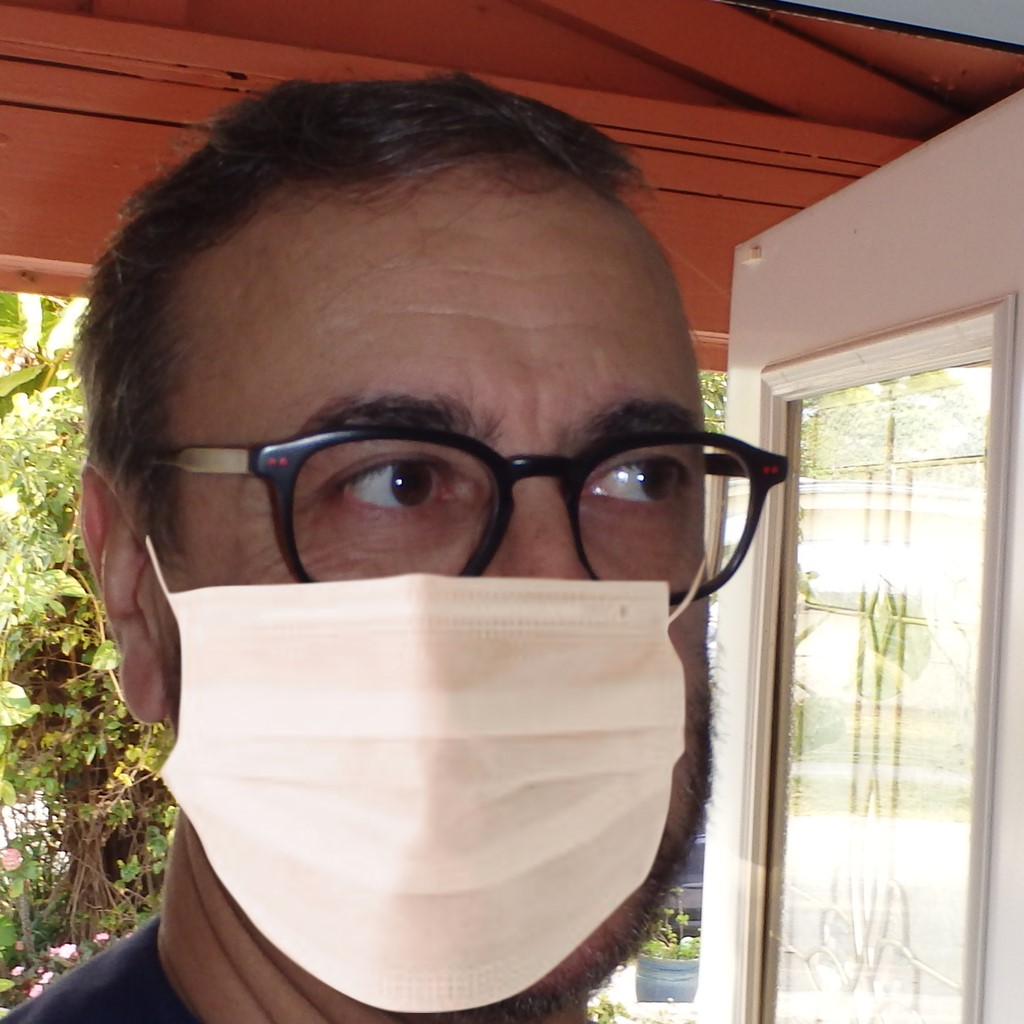con_mascara: (133, 131, 707, 991)
